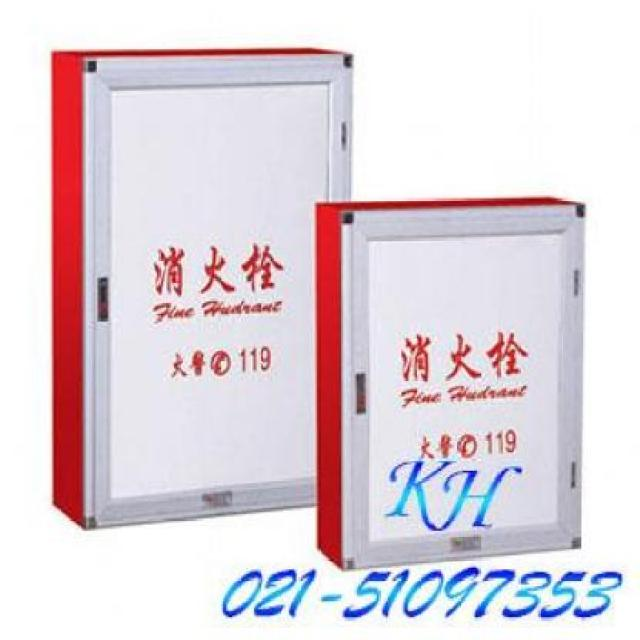firehydrant: (48, 40, 358, 537), (309, 189, 592, 579)
